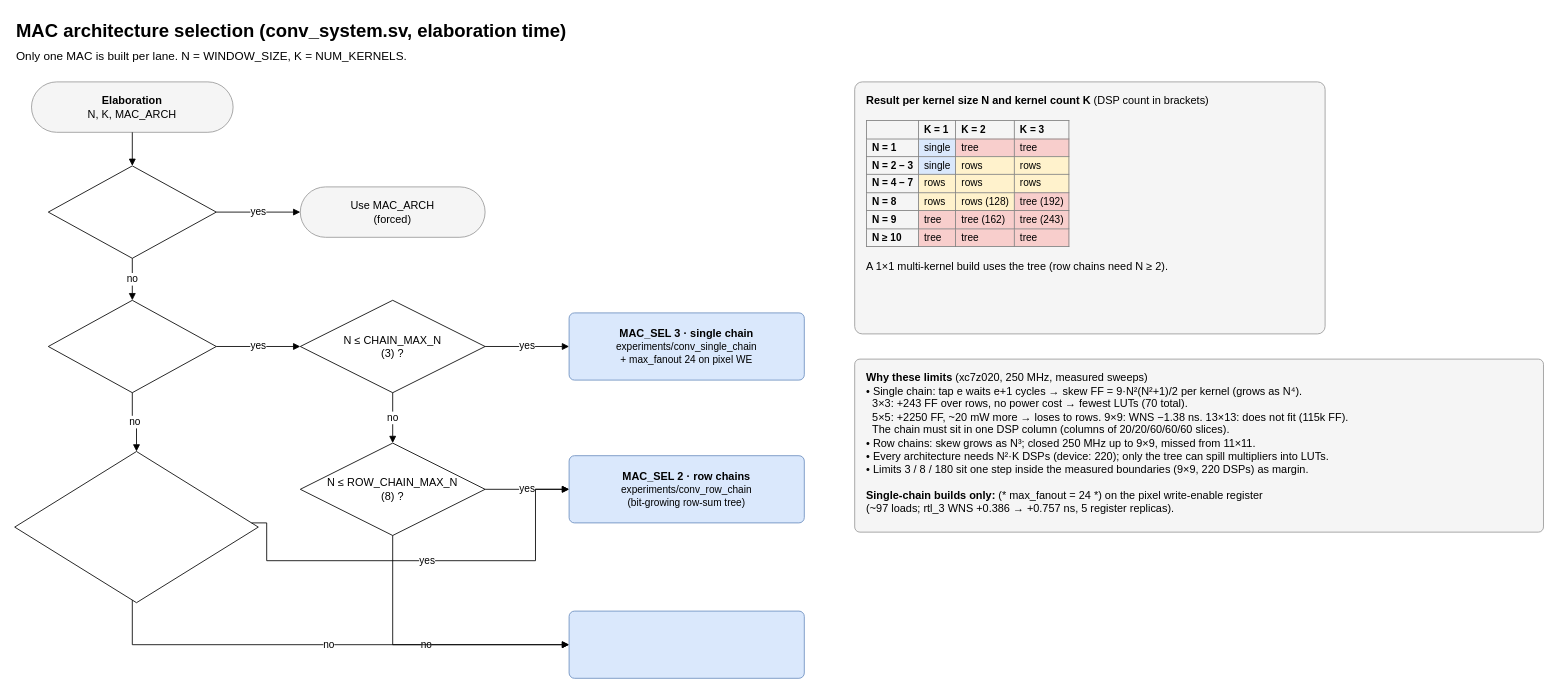
Some shapes in this 1558 by 693 pixel diagram are drawn without their labels. The centre of each missing label's shape, as x and y in pixels:
2 ≤ N ≤ 8 and N²·K ≤ ROW_CHAIN_MAX_DSP (180) ?: the point at 136,527
K == 1 ?: the point at 131,346
MAC_ARCH ∈ {1, 2, 3} ?: the point at 131,211
MAC_SEL 1 · multiplier_array + adder_tree experiments/conv_tree: the point at 686,644
